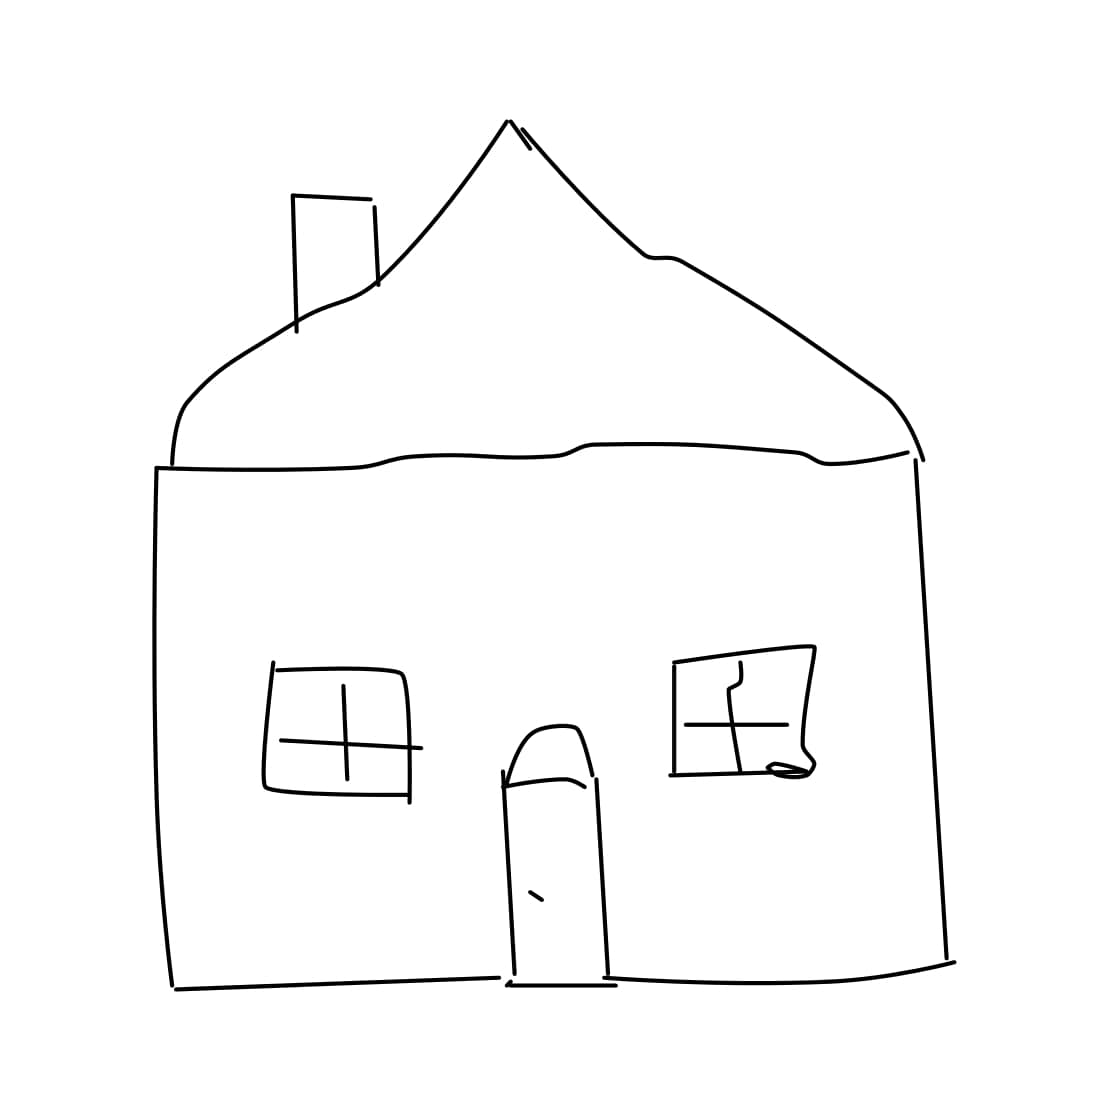House: (75, 109, 1027, 1007)
